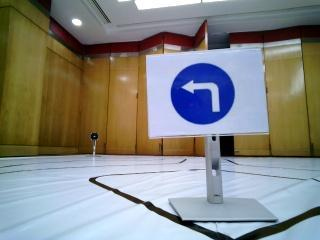left: (150, 57, 266, 130)
